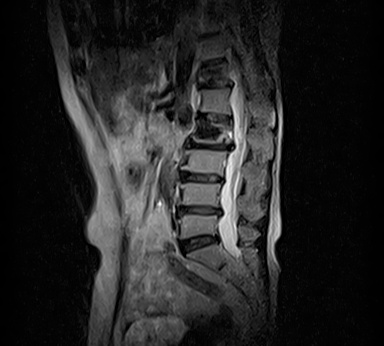L1,v2: (196, 90, 233, 111)
L1-L2,v1: (194, 106, 231, 127)
L2,v2: (193, 122, 230, 143)
L2-L3,v4: (191, 134, 228, 155)
L3,v2: (186, 151, 223, 172)
L3-L4,v2: (183, 167, 220, 188)
L4,v2: (181, 183, 218, 204)
L4-L5,v3: (182, 201, 219, 222)
L5,v2: (180, 215, 217, 236)
L5-S1,v2: (182, 232, 219, 253)
T12-L1,v3: (196, 74, 233, 95)
